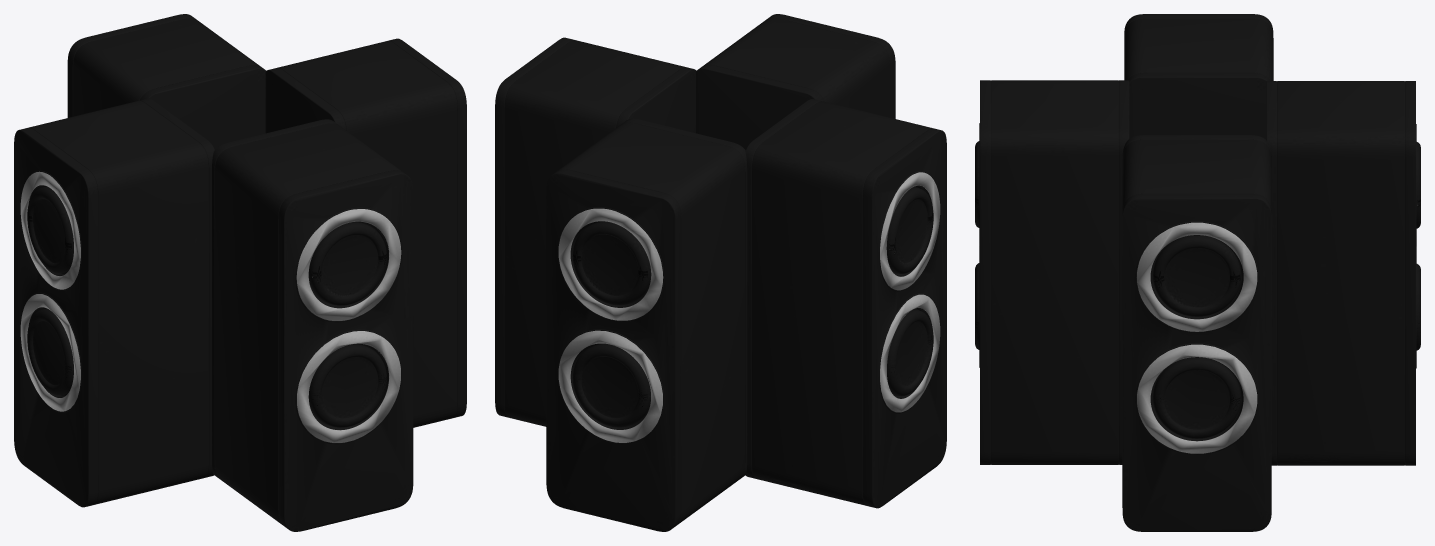
The model's file is Speaker.glb.
The picture shows the model from 3 angles, left to right: view 1: azimuth 30°, elevation 25°; view 2: azimuth 150°, elevation 25°; view 3: azimuth 270°, elevation 25°; orthographic projection.
Parts seen in each view (by area): view 1: speaker_02.003; view 2: speaker_02.003; view 3: speaker_02.003.
Boxes of the visible parts, <box> form: speaker_02.003: <box>14,14,466,531</box>; speaker_02.003: <box>495,14,946,531</box>; speaker_02.003: <box>975,14,1420,531</box>.
Bounding box in the file's own units: 4.47 × 3.73 × 4.47.
1 material, 1 textured.
